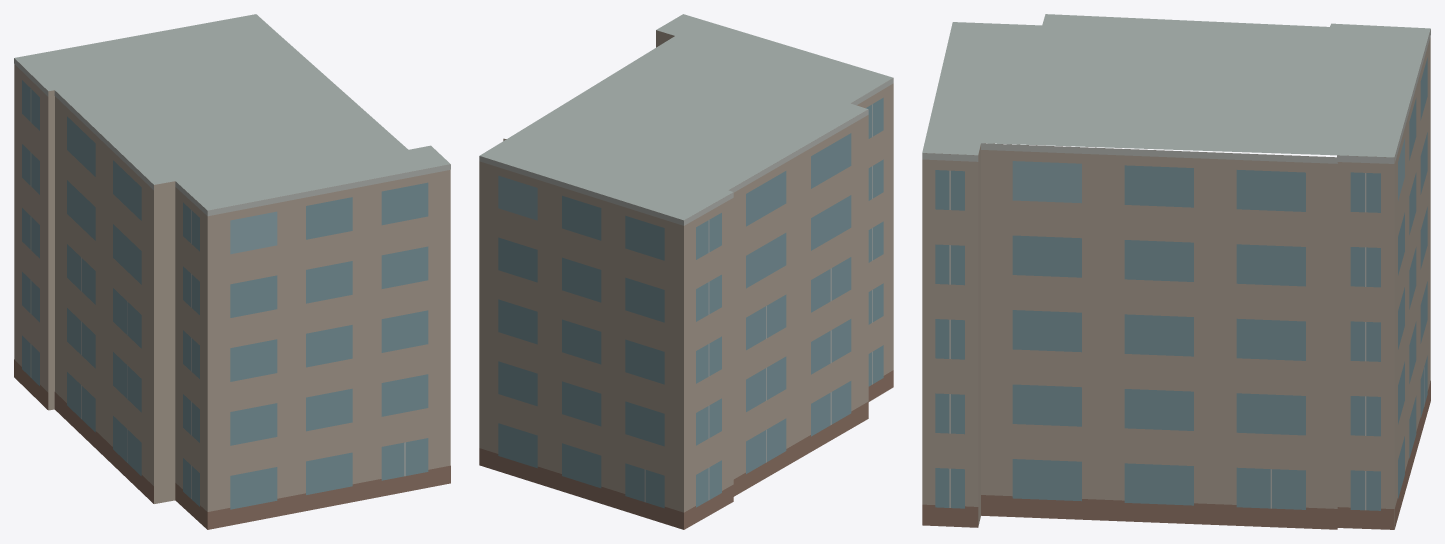
Rendered from survey-upis-32962044.glb.
3 views of the same model, side by side, from view 1: azimuth 30°, elevation 25°; view 2: azimuth 150°, elevation 25°; view 3: azimuth 270°, elevation 25° (orthographic). The views are drawn at different scales.
Parts seen in each view (by area): view 1: survey-upis-32962044.tmp; view 2: survey-upis-32962044.tmp; view 3: survey-upis-32962044.tmp.
Part boxes in pixels (x1,y1,x2,y2): survey-upis-32962044.tmp: (14,14,450,529); survey-upis-32962044.tmp: (479,14,893,529); survey-upis-32962044.tmp: (922,14,1430,529).
Bounding box in the file's own units: 11.36 × 13.75 × 17.03.
